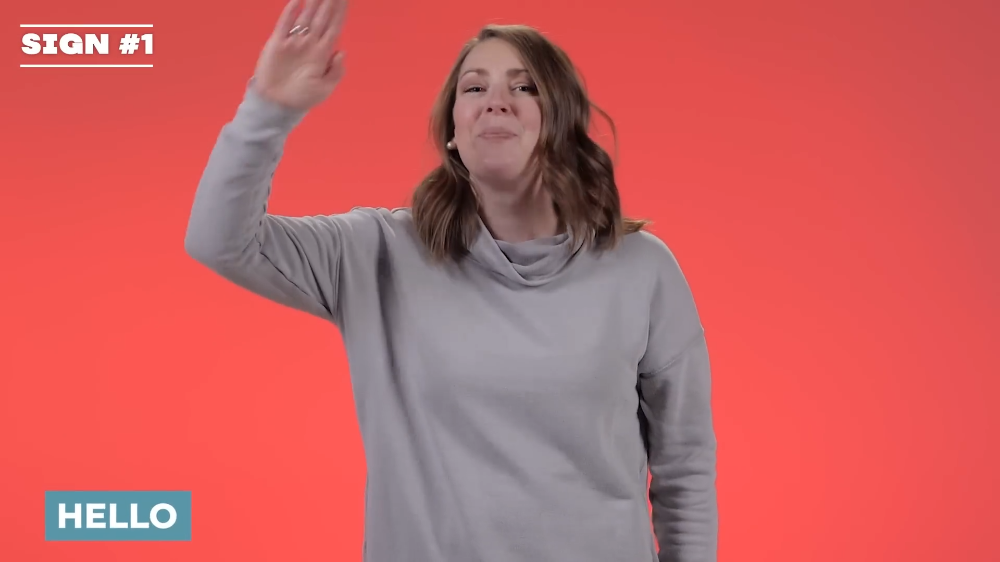hello: (259, 1, 355, 115)
